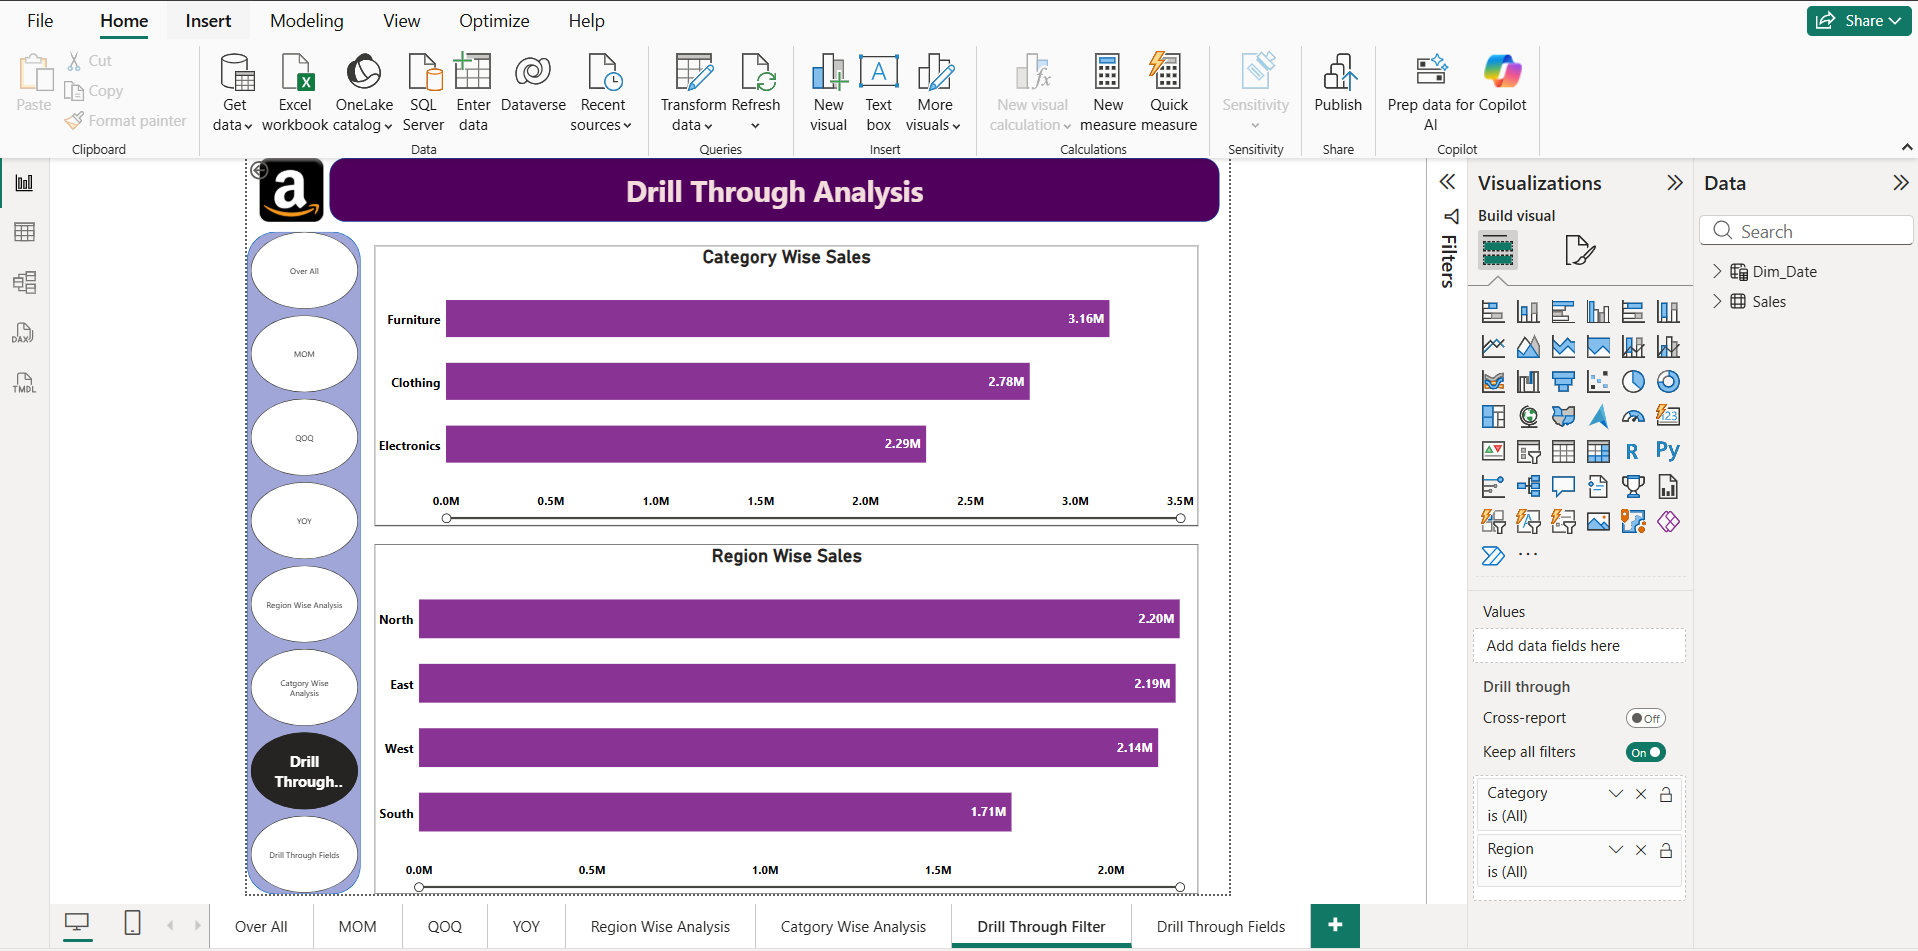

What the dashboard file says about the page in this screenshot:
{"tool":"powerbi","page":{"name":"Drill Through Filter","canvas":[1600,1200],"ordinal":6},"visuals":[{"type":"image","box":[10.2,0,124.3,103.9],"z":0},{"type":"shape","box":[134.5,0,1451.1,103.9],"z":1000},{"type":"barChart","title":"Region Wise Sales","fields":{"Category":["Sales.Region"],"Y":["Sales.A_Total_Sales"]},"box":[207.9,629.8,1343.1,570.7],"z":2000},{"type":"barChart","title":"Category Wise Sales","fields":{"Category":["Sales.Category"],"Y":["Sales.A_Total_Sales"]},"box":[207.9,142.7,1343.1,456.5],"z":3000},{"type":"actionButton","box":[0,0,100,40],"z":4000},{"type":"shape","box":[0,119.8,185.5,1080.2],"z":5000},{"type":"pageNavigator","box":[6.1,120.2,175.3,1080.2],"z":6000}]}

Visuals, with their boxes on the page's 1600x1200 design canvas (x1, y1, x2, y2). These are canvas units, not pixel positions in the 1918x951 screenshot, which may show the page scaled, cropped or inside an application window:
image: BBox(10, 0, 134, 104)
shape: BBox(134, 0, 1586, 104)
"Region Wise Sales" barChart: BBox(208, 630, 1551, 1200)
"Category Wise Sales" barChart: BBox(208, 143, 1551, 599)
actionButton: BBox(0, 0, 100, 40)
shape: BBox(0, 120, 186, 1200)
pageNavigator: BBox(6, 120, 181, 1200)
